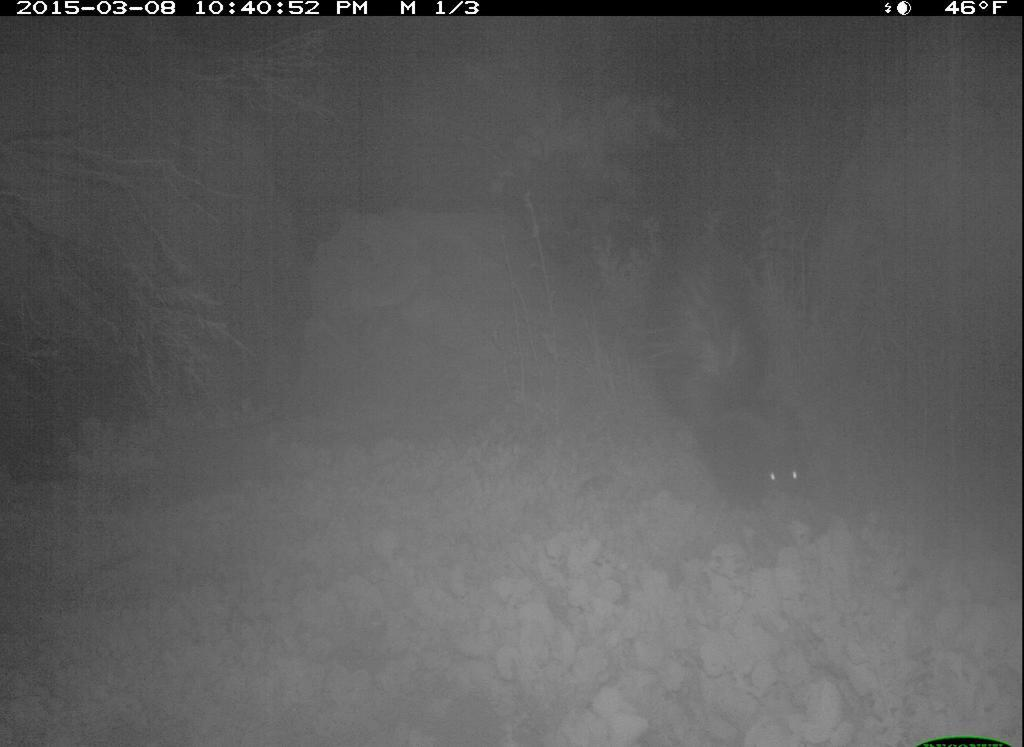skunk: (637, 210, 813, 515)
